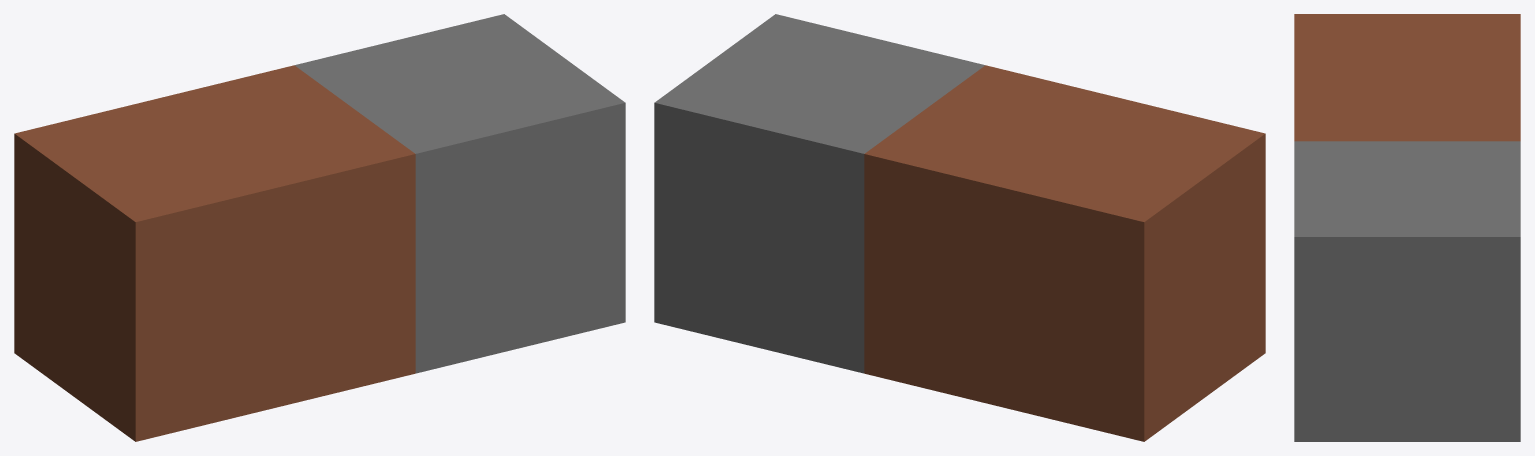
File: bullet.obj
3 views of the same model, side by side, from view 1: azimuth 30°, elevation 25°; view 2: azimuth 150°, elevation 25°; view 3: azimuth 270°, elevation 25° (orthographic). The views are drawn at different scales.
Size of the model in its own units: 7 by 3 by 3.
1 material, 1 textured.
